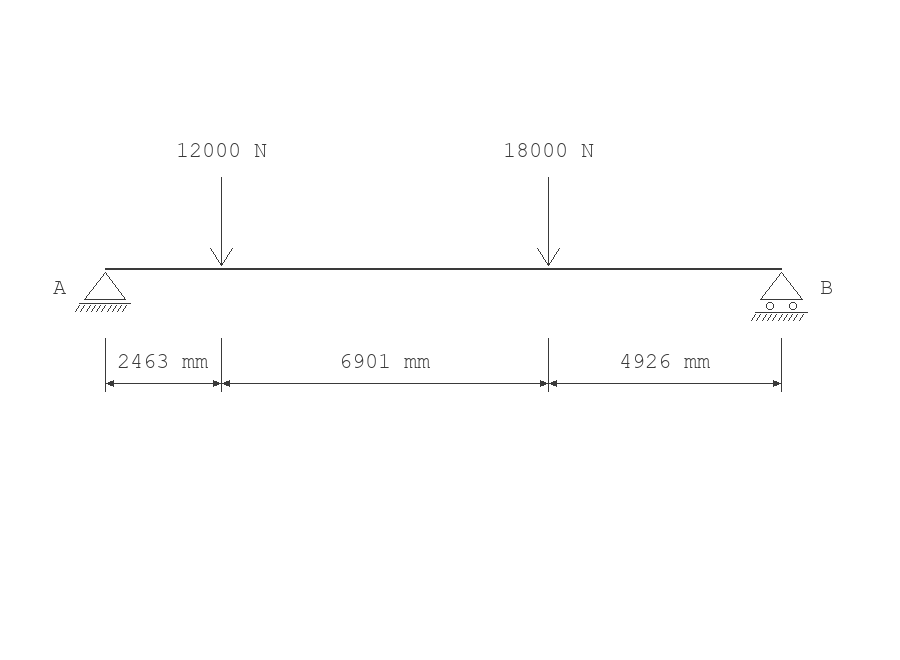pin_support: (75, 272, 131, 312)
point_load: (210, 177, 233, 266), (537, 177, 560, 266)
roller_support: (751, 272, 808, 321)
